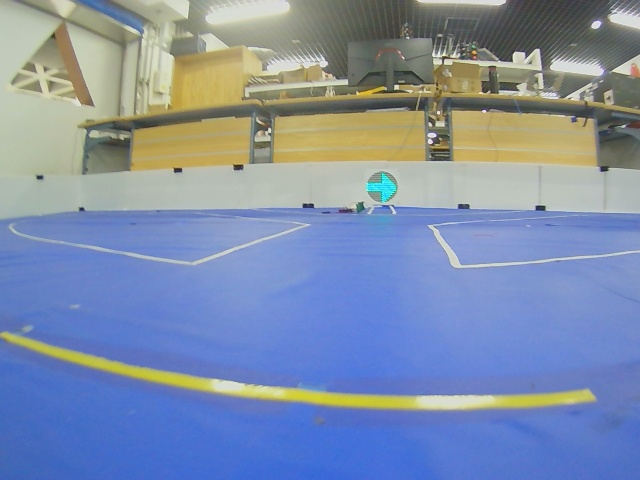right_green: (366, 171, 398, 203)
